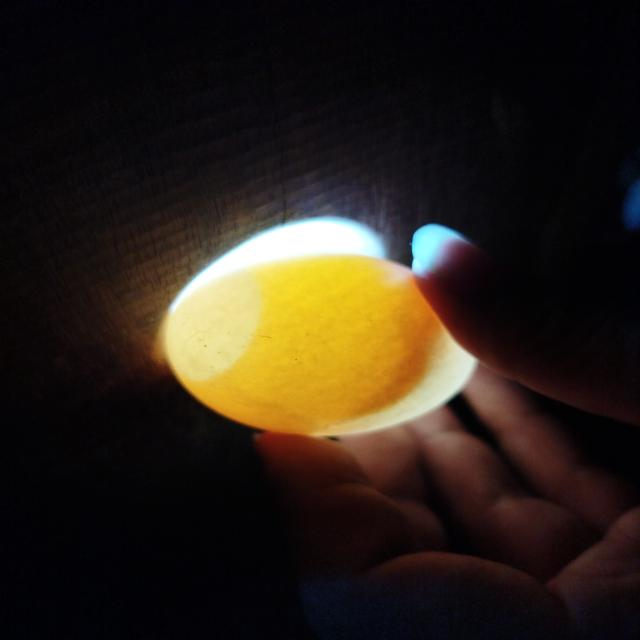Camara de Ar: (169, 268, 261, 381)
Gema Quebrada: (351, 258, 445, 416)
